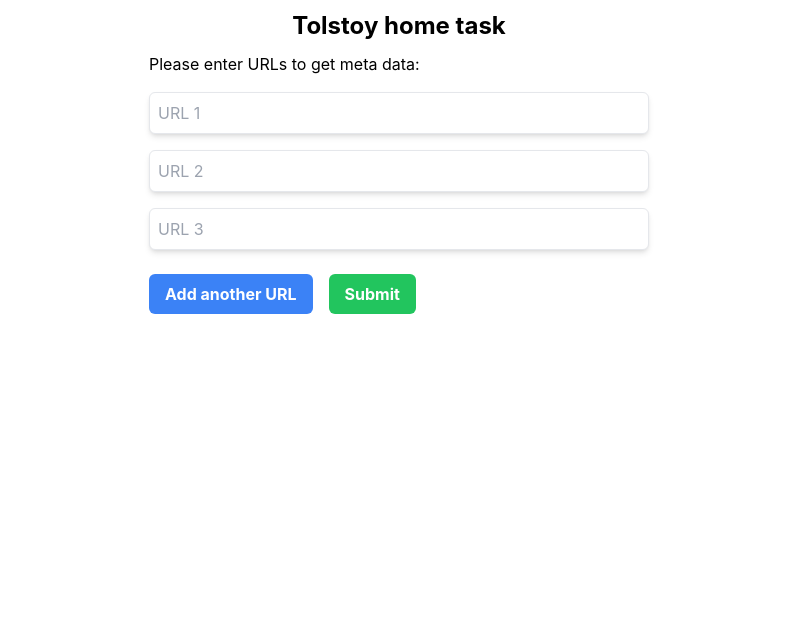
Scenario: MultiURLForm Component › handles network errors correctly
The width and height of the screenshot is (797, 617).
Type "https://example.com" into the field with placeholder "URL 1" at (399, 113), box [149,92,649,134]
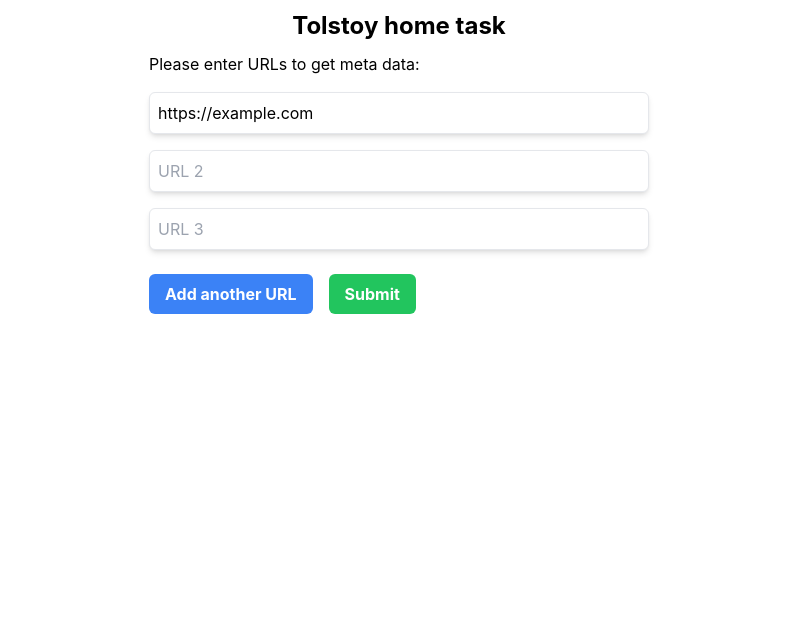
Type "https://example2.com" into the field with placeholder "URL 2" at (399, 171), box [149,150,649,192]
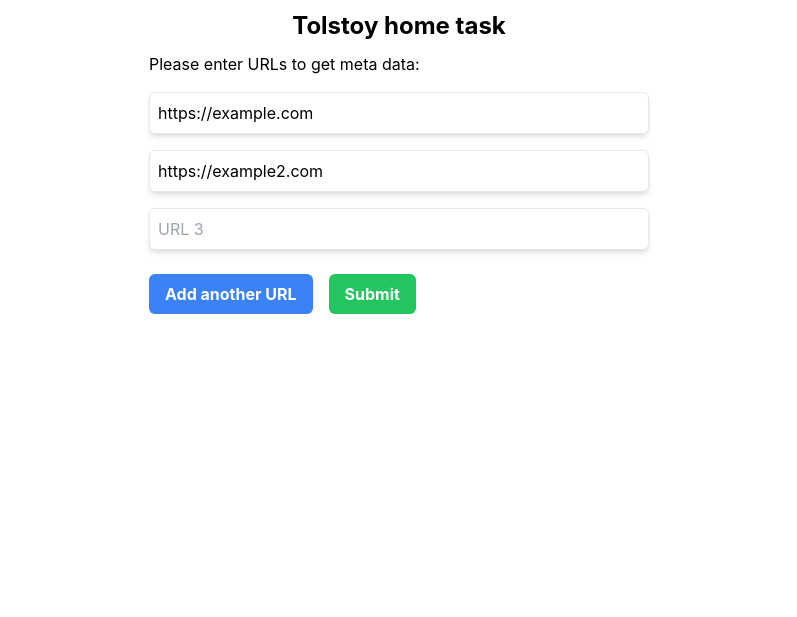
Type "https://example3.com" into the field with placeholder "URL 3" at (399, 229), box [149,208,649,250]
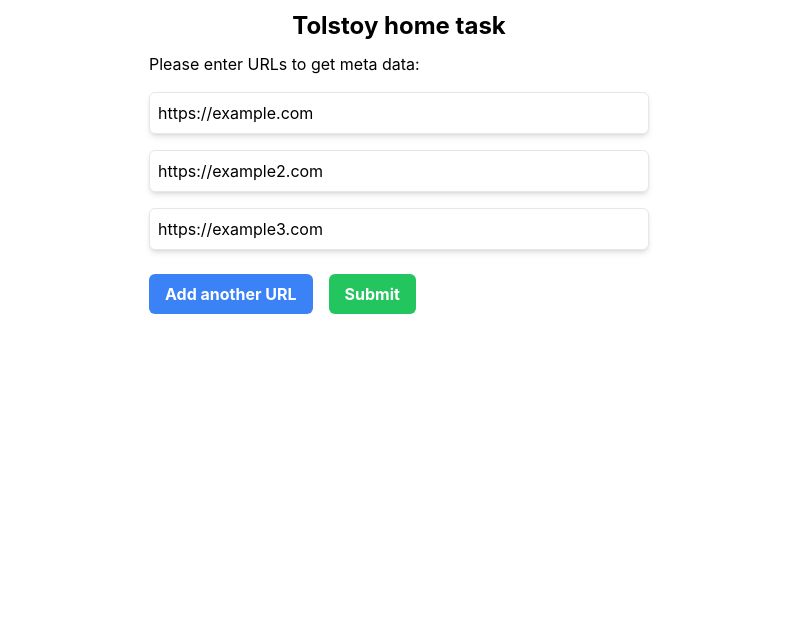
Click the button "Submit" at (372, 294), box [329,274,416,314]
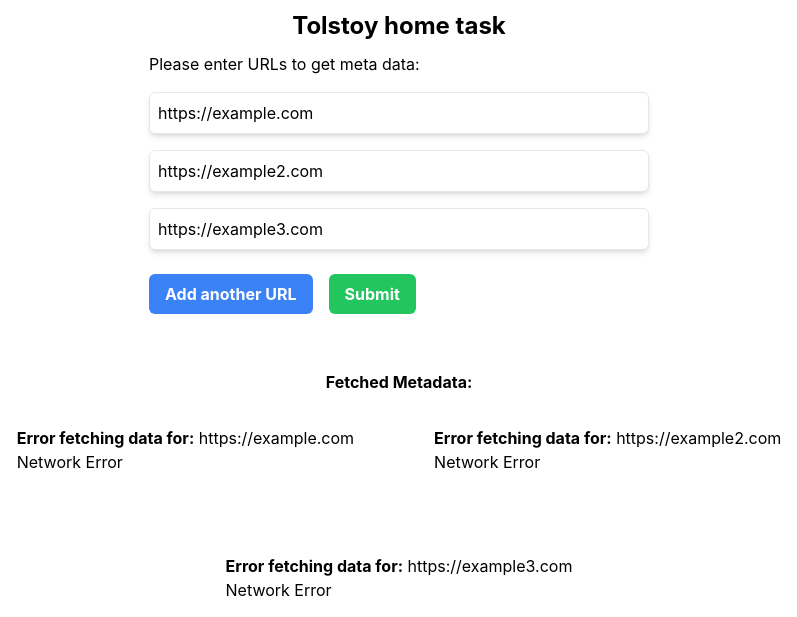
expect the text "Network Error" is shown 3 times: met, box [17,452,123,472]; [434,452,540,472]; [226,580,332,600]
